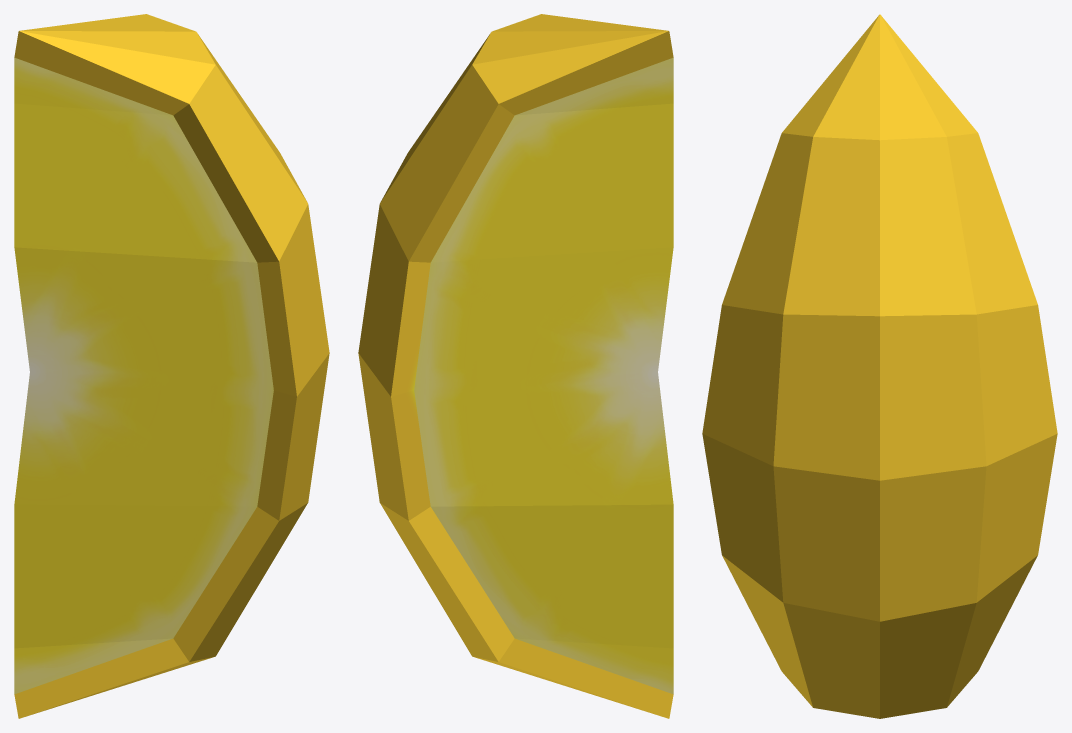
Rendered from lemon_slice.fbx.
3 views of the same model, side by side, from view 1: azimuth 30°, elevation 25°; view 2: azimuth 150°, elevation 25°; view 3: azimuth 270°, elevation 25° (orthographic). The views are drawn at different scales.
Visible parts, largest first — view 1: lemon.002; view 2: lemon.002; view 3: lemon.002.
Boxes of the visible parts, left/top/right/bottom form: lemon.002: left=14, top=14, right=329, bottom=718; lemon.002: left=358, top=14, right=673, bottom=718; lemon.002: left=702, top=14, right=1057, bottom=718.
Size of the model in its own units: 197 by 446 by 216.
